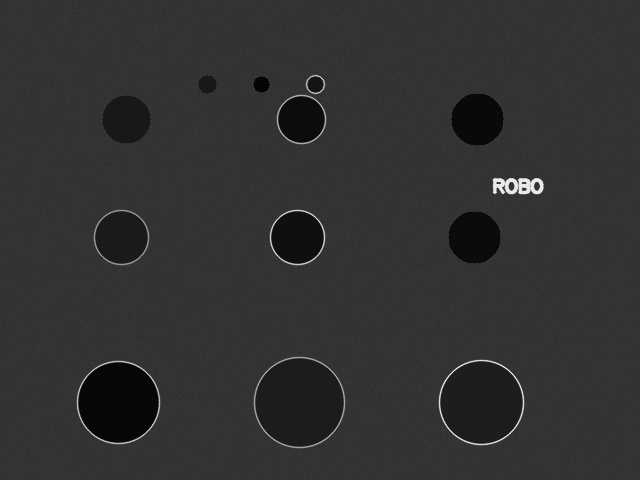hole: (254, 357, 344, 447), (439, 360, 523, 444), (77, 361, 159, 443), (94, 210, 148, 264), (270, 210, 324, 264), (451, 93, 503, 145), (448, 211, 500, 263), (102, 95, 150, 143), (277, 95, 325, 143), (198, 75, 216, 93), (306, 75, 324, 93), (253, 76, 269, 92)
